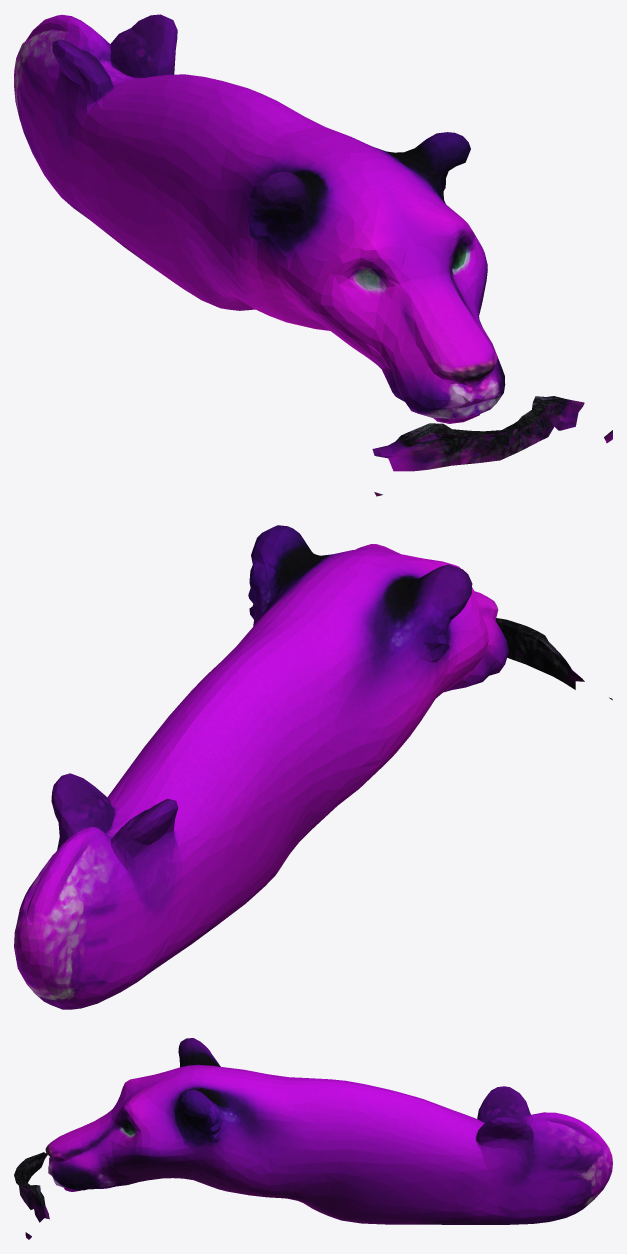
Rendered from trellis_result.glb.
3 views of the same model, one above another, from view 1: azimuth 30°, elevation 25°; view 2: azimuth 150°, elevation 25°; view 3: azimuth 270°, elevation 25° (orthographic). The views are drawn at different scales.
Visible parts, largest first — view 1: world; view 2: world; view 3: world.
Part boxes in pixels (<box>): world: <box>14,14,612,496</box>; world: <box>14,525,612,1009</box>; world: <box>14,1038,612,1239</box>.
Size of the model in its own units: 0.2903 by 0.2886 by 0.9994.
1 material, 1 textured.
